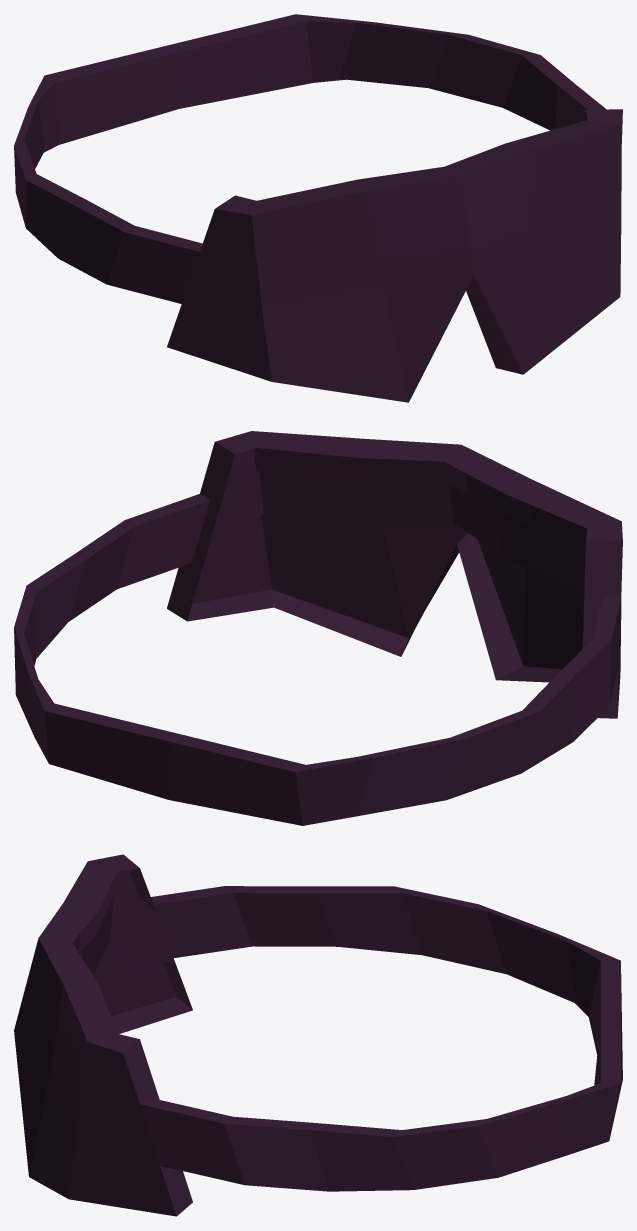
Rendered from Snowboarder_1_Goggles.fbx.
The picture shows the model from 3 angles, top to bottom: view 1: azimuth 30°, elevation 25°; view 2: azimuth 150°, elevation 25°; view 3: azimuth 270°, elevation 25°; orthographic projection.
Visible parts, largest first — view 1: Snowboarder_1_Goggles; view 2: Snowboarder_1_Goggles; view 3: Snowboarder_1_Goggles.
Boxes of the visible parts, x1,y1,x2,y2 form: Snowboarder_1_Goggles: (14,14,622,402); Snowboarder_1_Goggles: (14,431,622,825); Snowboarder_1_Goggles: (14,854,622,1216).
Bounding box in the file's own units: 24.45 × 9.73 × 25.01.
